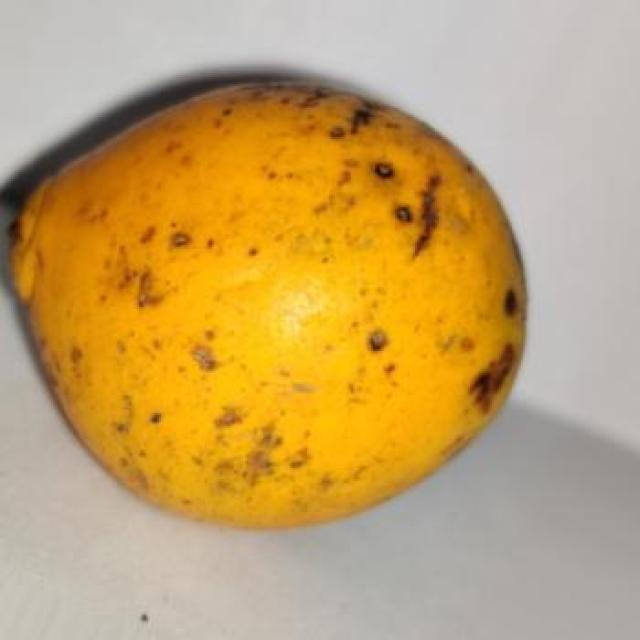good: (9, 79, 527, 534)
